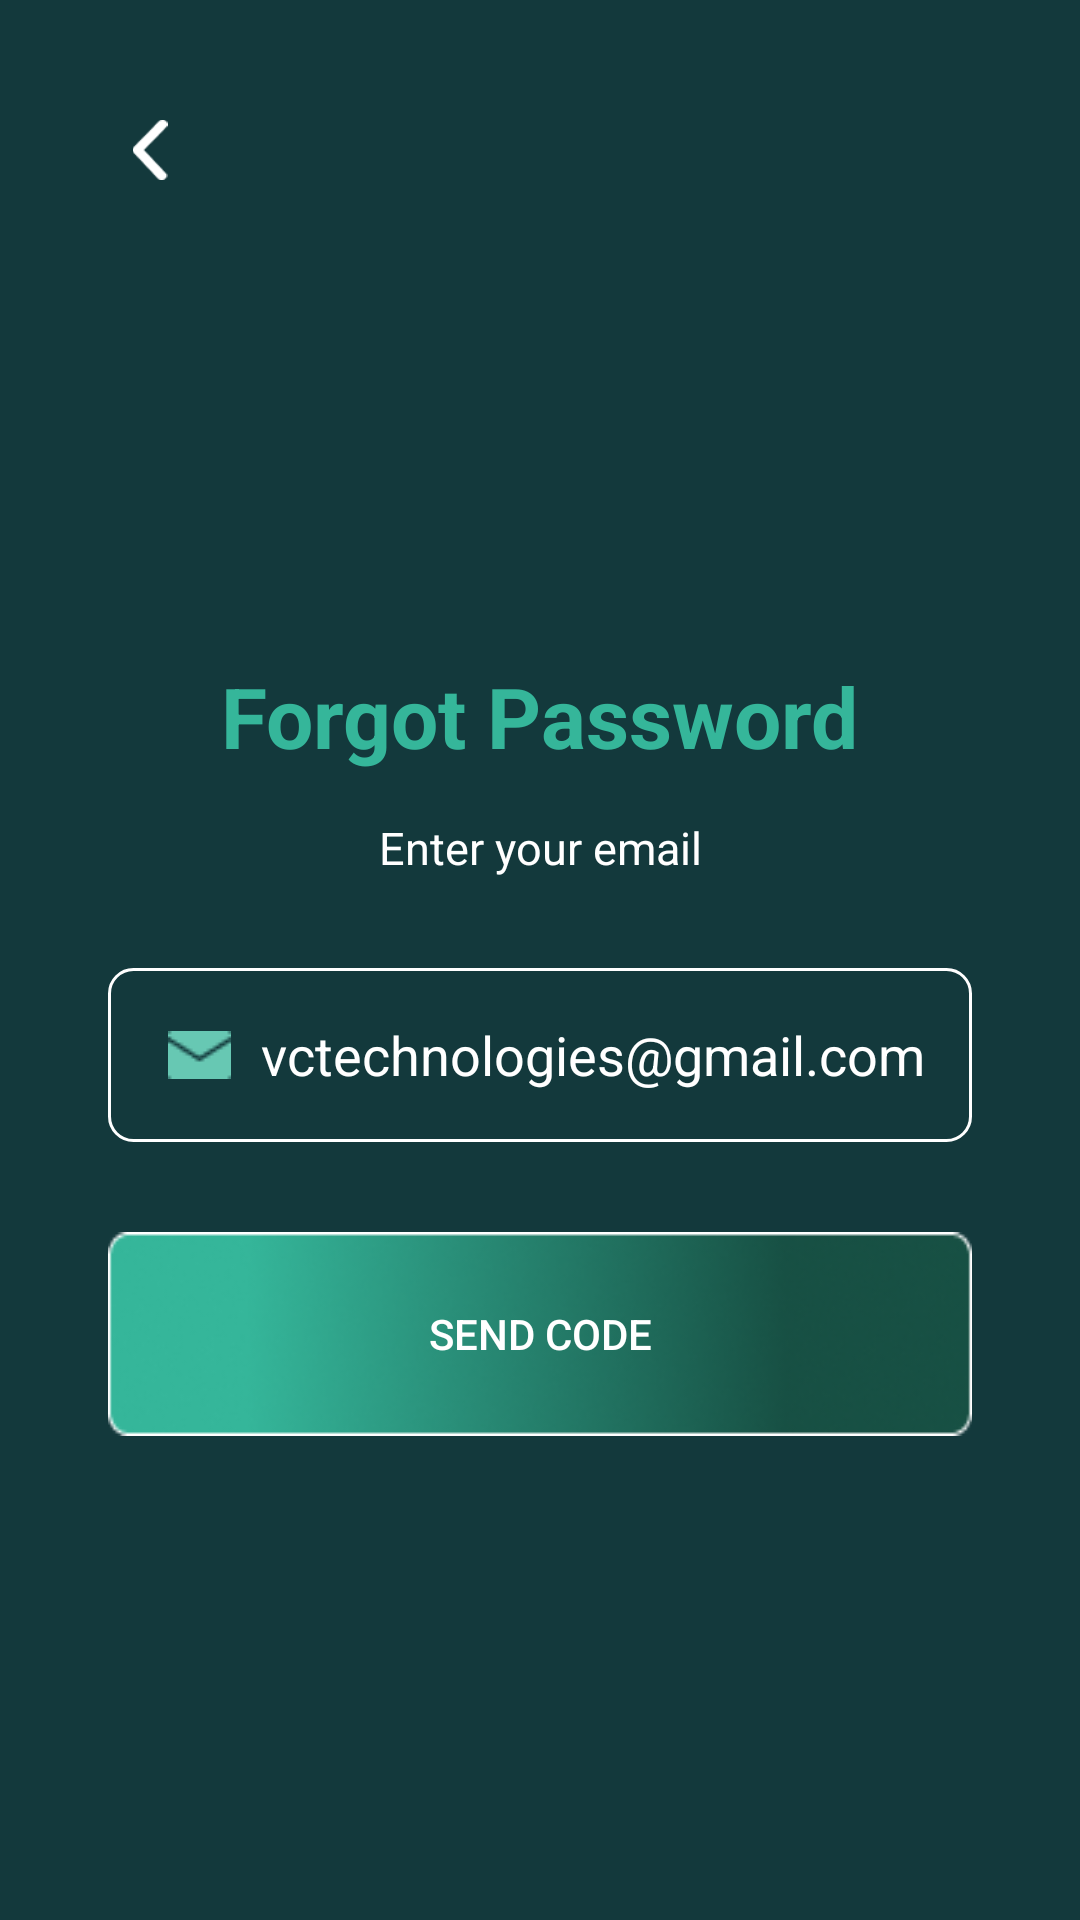

Icons on this 1080px x 1920px Android screen, each with its box as {"x1": x1, "y1": y1, "x2": x2, "y2": y2}:
upscaledarrow: {"x1": 133, "y1": 120, "x2": 168, "y2": 180}
